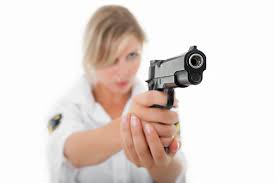gun: (134, 45, 207, 146)
